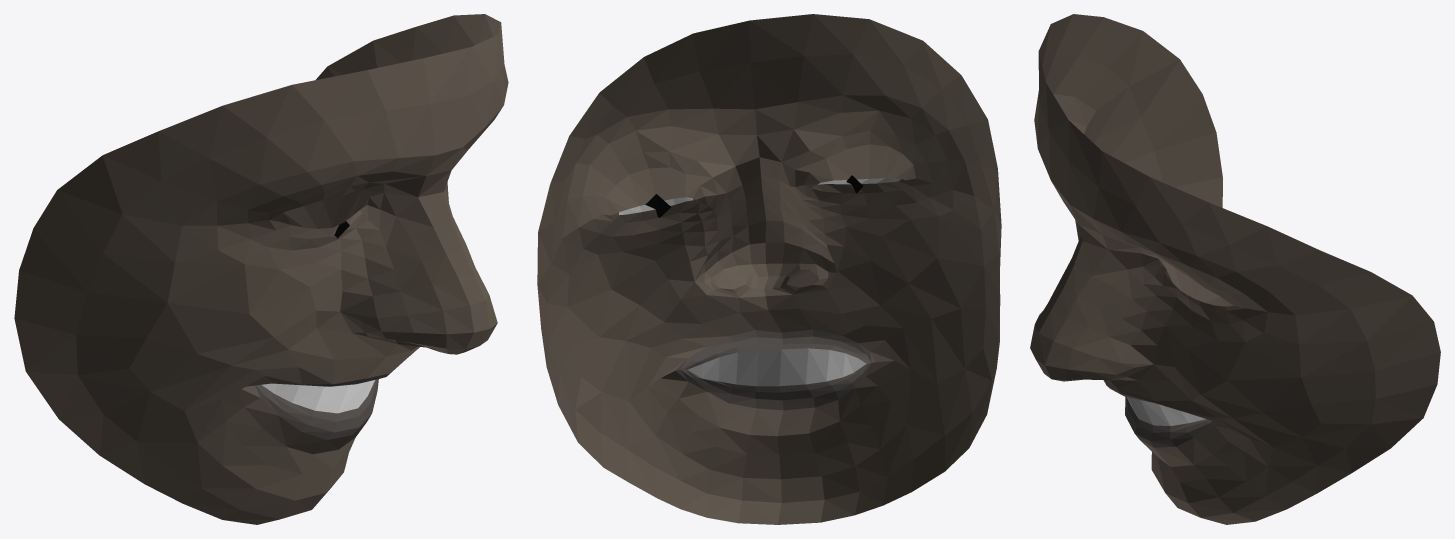
File: frame_00199.obj
3 renders of one model, left to right at view 1: azimuth 30°, elevation 25°; view 2: azimuth 150°, elevation 25°; view 3: azimuth 270°, elevation 25°, orthographic. The views are drawn at different scales.
Parts seen in each view (by area): view 1: face_model_with_iris; view 2: face_model_with_iris; view 3: face_model_with_iris.
Part boxes in pixels (left/top/right/bottom): face_model_with_iris: left=14, top=14, right=508, bottom=524; face_model_with_iris: left=537, top=14, right=1001, bottom=524; face_model_with_iris: left=1030, top=14, right=1440, bottom=524.
Size of the model in its own units: 0.5031 by 0.5219 by 0.4241.
